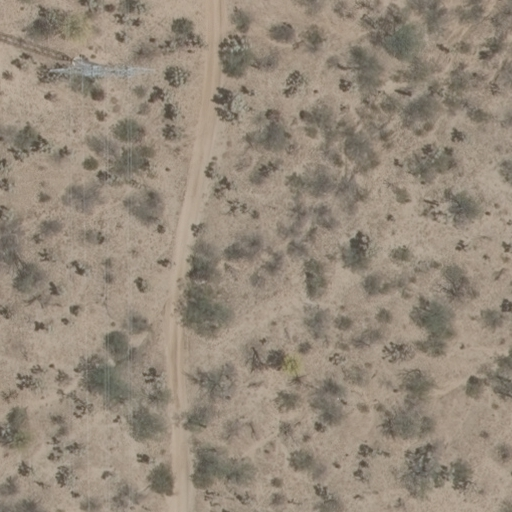TT: (42, 35, 163, 97)
